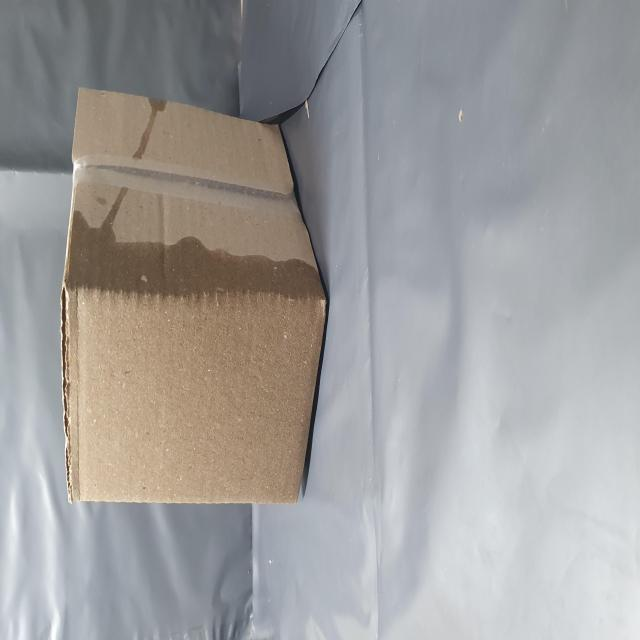wet: (77, 107, 237, 577)
